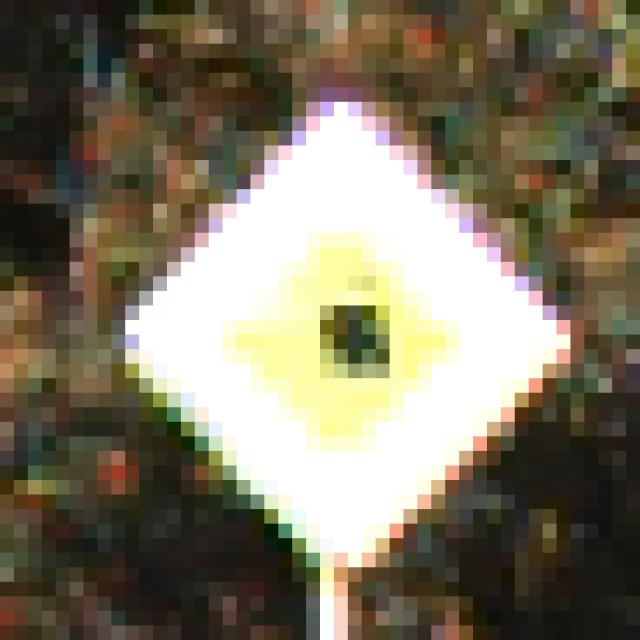Main Road: (85, 74, 558, 568)
